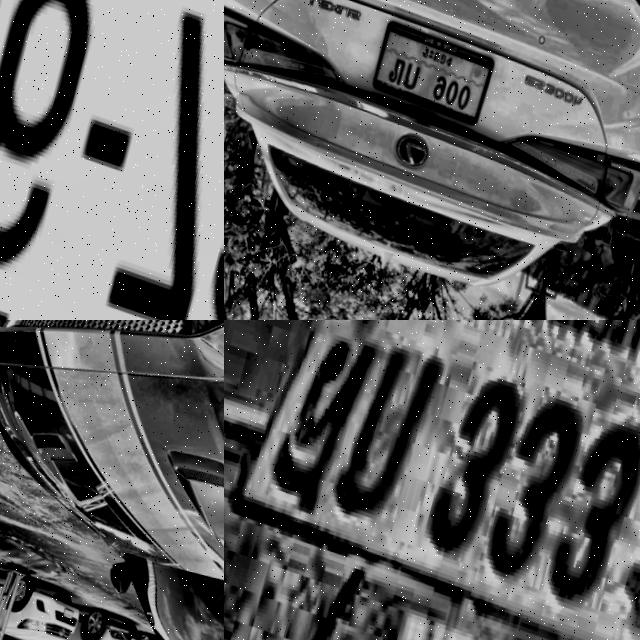license-plate: (224, 320, 640, 640), (0, 0, 224, 320), (369, 16, 495, 119), (60, 604, 73, 619), (126, 631, 137, 640)
